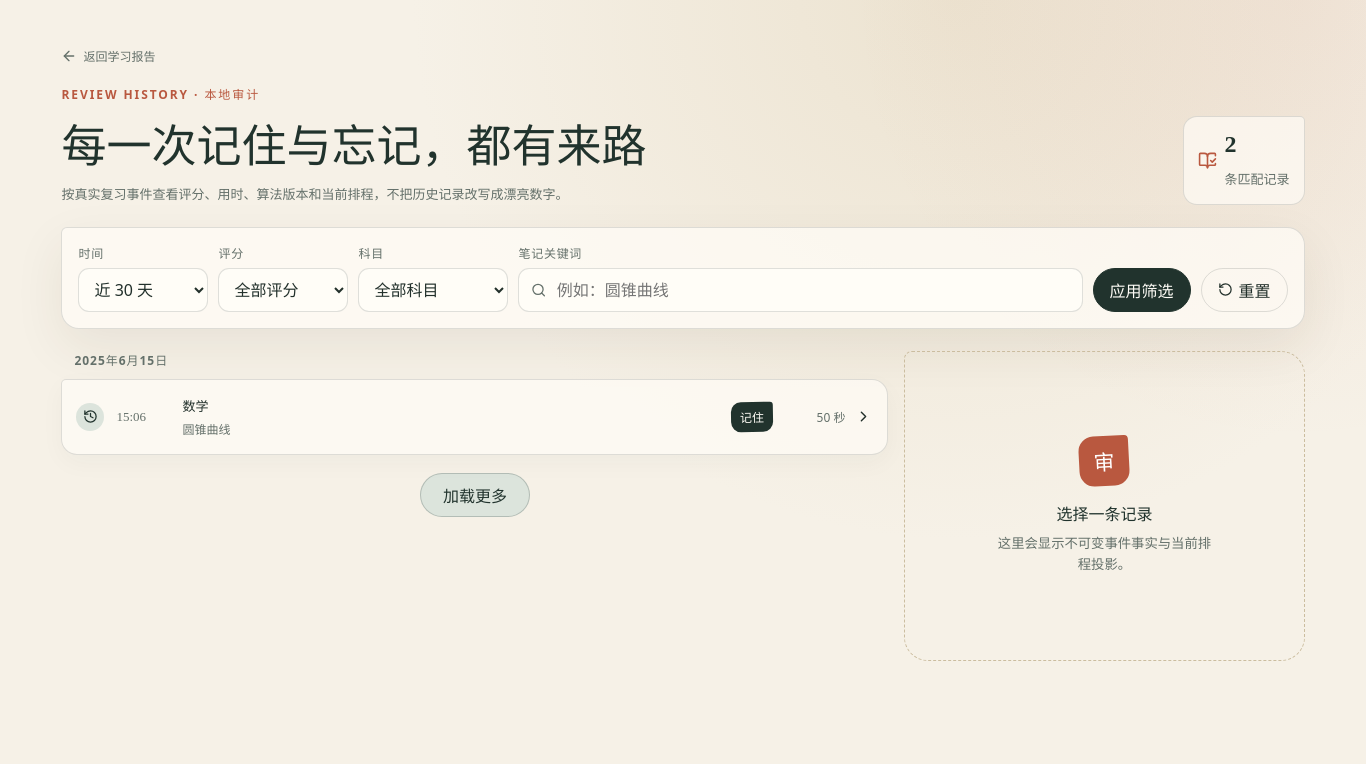
ReviewHistoryView › loads real history, opens detail, and never places the event id in the route
Step 1. Click the button "15:06 数学 圆锥曲线 记住 50 秒" → (206, 429), box [62, 379, 888, 455]
(page scrolled)
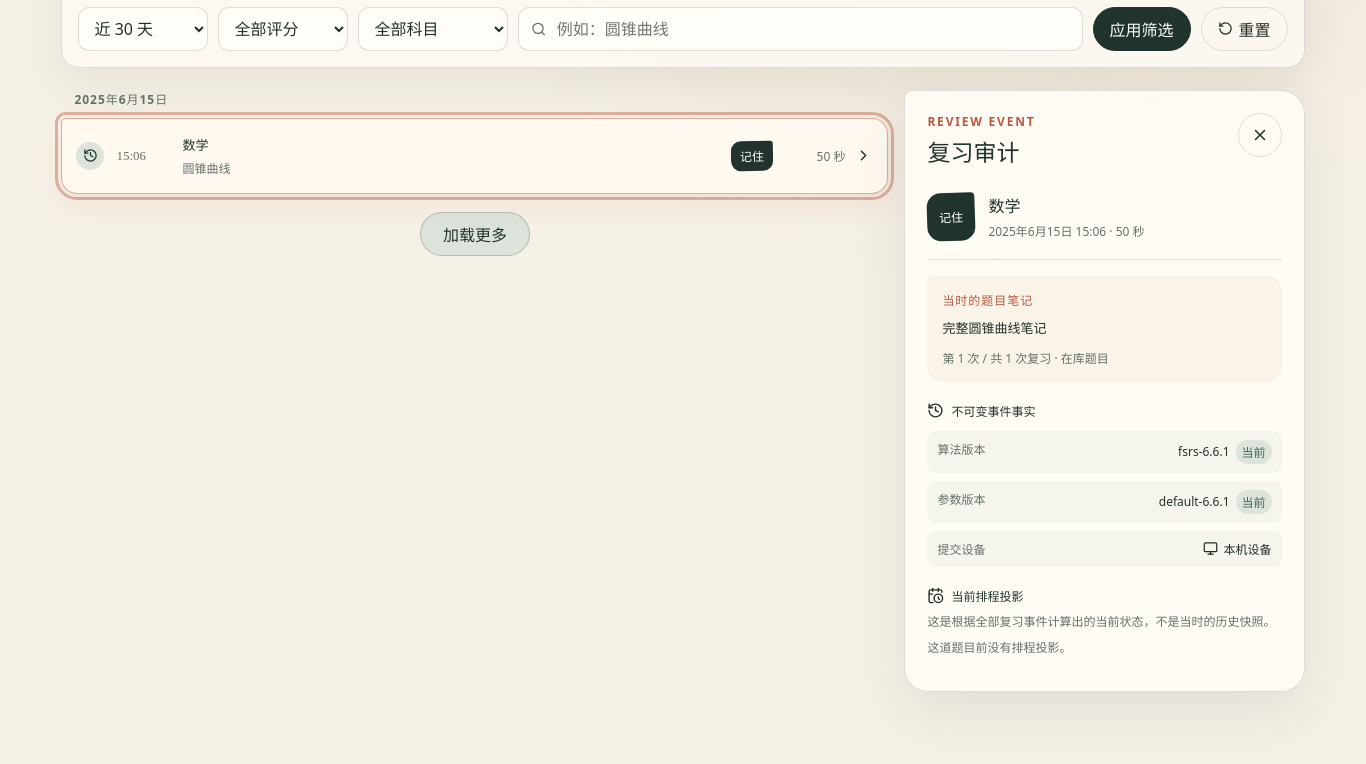
Result: the text "完整圆锥曲线笔记" is shown at [942, 319, 1046, 337]
Result: the text "本机设备" is shown at [1202, 541, 1272, 558]
